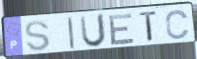C: (165, 9, 191, 41)
E: (108, 12, 136, 47)
I: (67, 15, 77, 51)
S: (23, 19, 52, 53)
T: (139, 9, 159, 44)
U: (78, 12, 107, 49)
